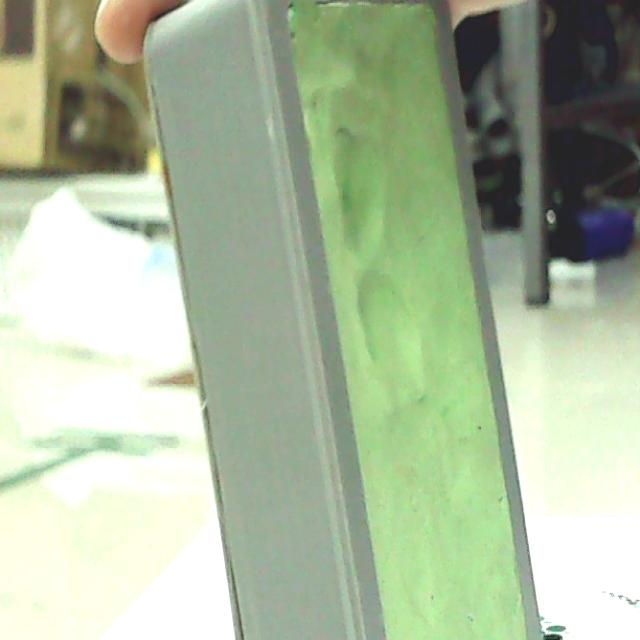block: (127, 0, 551, 640)
